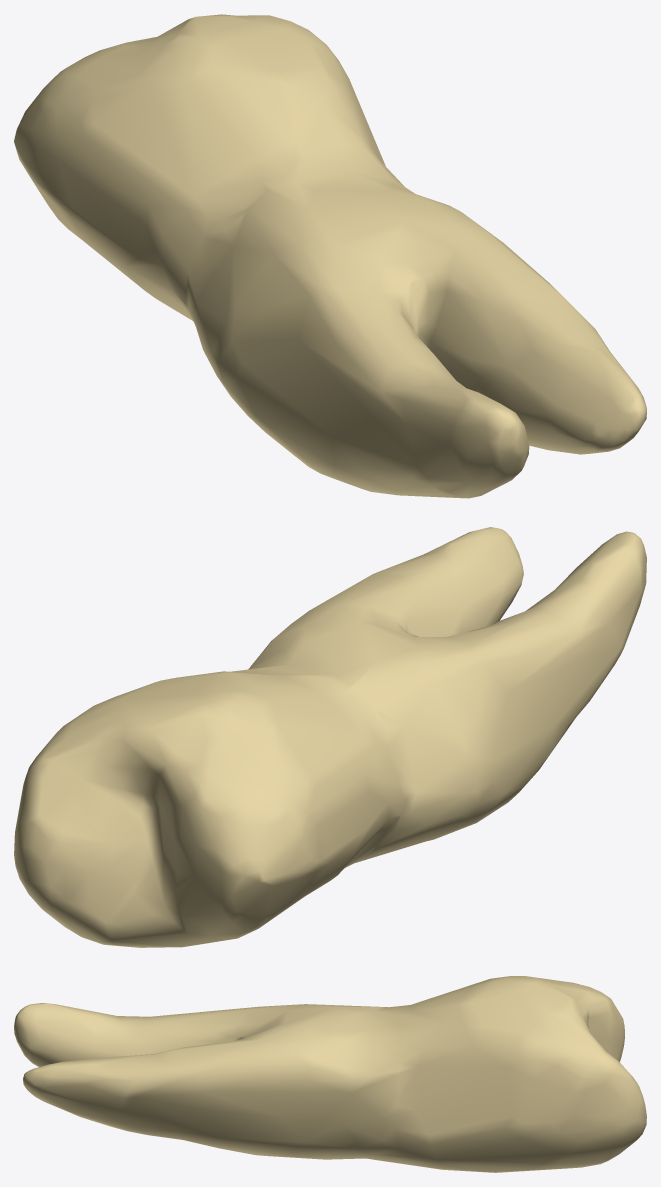
The picture shows the model from 3 angles, top to bottom: view 1: azimuth 30°, elevation 25°; view 2: azimuth 150°, elevation 25°; view 3: azimuth 270°, elevation 25°; orthographic projection. The views are drawn at different scales.
Visible parts, largest first — view 1: 左侧上颌第二前磨牙; view 2: 左侧上颌第二前磨牙; view 3: 左侧上颌第二前磨牙.
Boxes of the visible parts, x1,y1,x2,y2 form: 左侧上颌第二前磨牙: (14,14,646,498); 左侧上颌第二前磨牙: (14,527,646,947); 左侧上颌第二前磨牙: (14,976,646,1172).
Bounding box in the file's own units: 0.0134 × 0.0109 × 0.0373.
